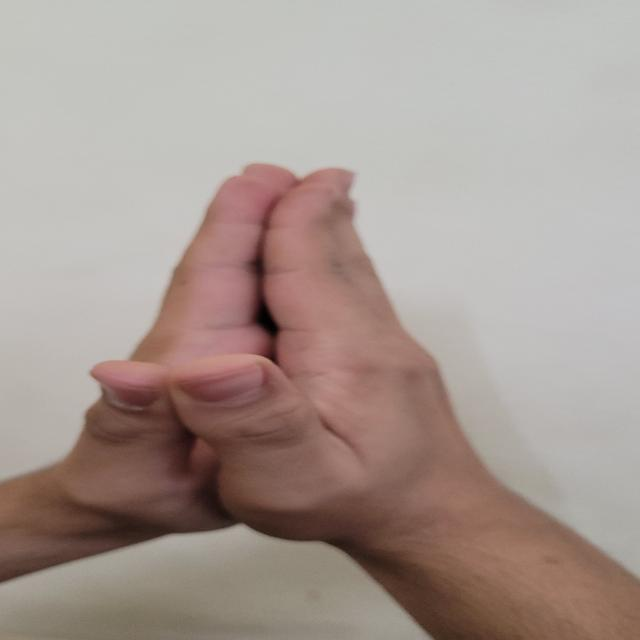Thank You: (55, 156, 490, 540)
